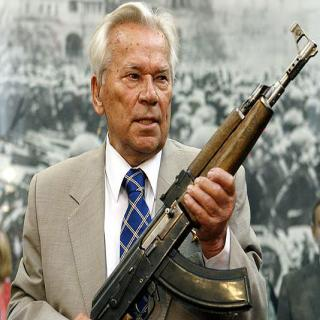gun: (91, 20, 318, 319)
